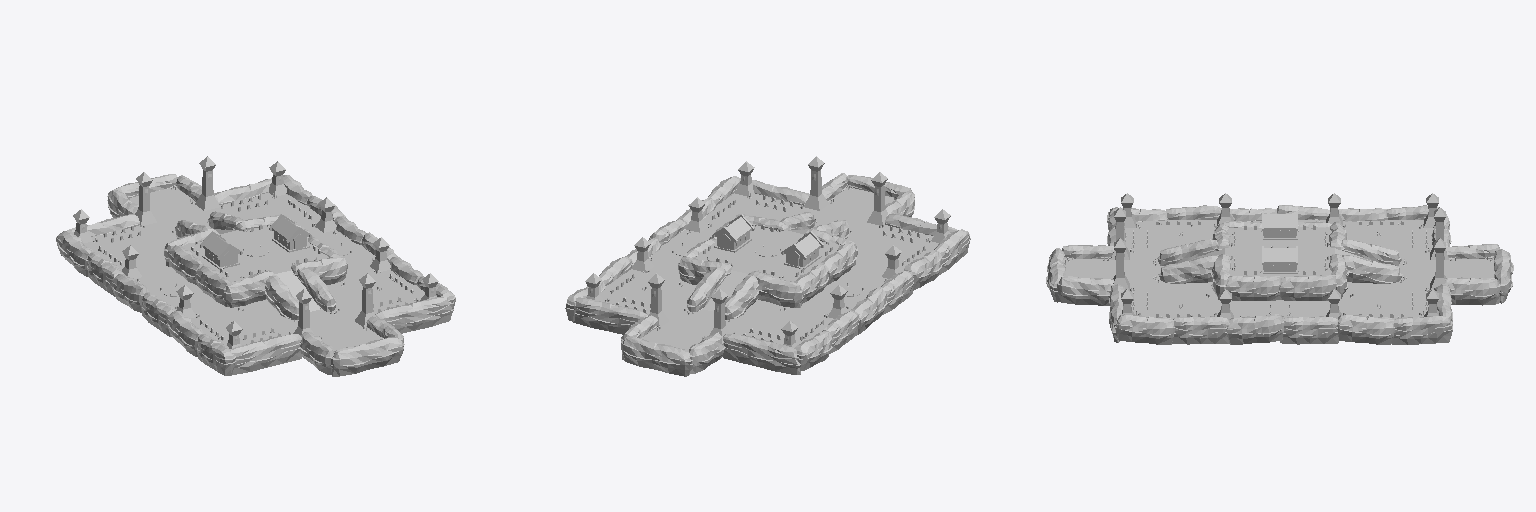
File: cemetery_arena_object.obj
The picture shows the model from 3 angles: view 1: azimuth 30°, elevation 25°; view 2: azimuth 150°, elevation 25°; view 3: azimuth 270°, elevation 25°; orthographic projection.
Parts seen in each view (by area): view 1: Plane, Cube.036_Cube.140, Cube_Cube.174, Cube.017_Cube.090, Cube.023_Cube.107, Cube.019_Cube.092, Cube.033_Cube.135, Cube.026_Cube.110, Cube.032_Cube.134, Cube.027_Cube.111, Cube.022_Cube.106, Cube.024_Cube.108 (+12 smaller); view 2: Plane, Cube.036_Cube.140, Cube.016_Cube.103, Cube_Cube.174, Cube.021_Cube.105, Cube.014_Cube.087, Cube.031_Cube.133, Cube.030_Cube.132, Cube.020_Cube.104, Cube.024_Cube.108, Cube.026_Cube.110, Cube.028_Cube.112 (+12 smaller); view 3: Plane, Cube.036_Cube.140, Cube_Cube.174, Cube.009_Cube.084, Cube.012_Cube.086, Cube.008_Cube.083, Cube.007_Cube.082, Cube.006_Cube.081, Cube.011_Cube.085, Cube.018_Cube.091, Cube.015_Cube.088, Cube.000_Cube.075 (+16 smaller).
Boxes of the visible parts, x1=… form: Plane: x1=84, y1=186, x2=424, y2=350; Cube.036_Cube.140: x1=73, y1=156, x2=438, y2=348; Cube_Cube.174: x1=200, y1=214, x2=311, y2=269; Cube.017_Cube.090: x1=330, y1=337, x2=404, y2=376; Cube.023_Cube.107: x1=229, y1=334, x2=302, y2=375; Cube.019_Cube.092: x1=375, y1=296, x2=453, y2=333; Cube.033_Cube.135: x1=223, y1=270, x2=274, y2=307; Cube.026_Cube.110: x1=197, y1=334, x2=235, y2=375; Cube.032_Cube.134: x1=265, y1=275, x2=298, y2=319; Cube.027_Cube.111: x1=166, y1=311, x2=203, y2=356; Cube.022_Cube.106: x1=299, y1=332, x2=334, y2=374; Cube.024_Cube.108: x1=56, y1=230, x2=92, y2=276; Plane: x1=600, y1=187, x2=938, y2=350; Cube.036_Cube.140: x1=585, y1=156, x2=950, y2=347; Cube.016_Cube.103: x1=722, y1=334, x2=800, y2=374; Cube_Cube.174: x1=712, y1=214, x2=823, y2=269; Cube.021_Cube.105: x1=621, y1=337, x2=693, y2=376; Cube.014_Cube.087: x1=573, y1=297, x2=647, y2=334; Cube.031_Cube.133: x1=748, y1=271, x2=803, y2=307; Cube.030_Cube.132: x1=725, y1=275, x2=758, y2=319; Cube.020_Cube.104: x1=689, y1=332, x2=725, y2=374; Cube.024_Cube.108: x1=794, y1=331, x2=832, y2=370; Cube.026_Cube.110: x1=934, y1=229, x2=970, y2=274; Cube.028_Cube.112: x1=850, y1=287, x2=886, y2=334; Plane: x1=1065, y1=220, x2=1494, y2=318; Cube.036_Cube.140: x1=1111, y1=193, x2=1448, y2=318; Cube_Cube.174: x1=1262, y1=212, x2=1297, y2=273; Cube.009_Cube.084: x1=1392, y1=316, x2=1452, y2=344; Cube.012_Cube.086: x1=1115, y1=314, x2=1175, y2=344; Cube.008_Cube.083: x1=1337, y1=314, x2=1394, y2=344; Cube.007_Cube.082: x1=1226, y1=314, x2=1284, y2=344; Cube.006_Cube.081: x1=1280, y1=316, x2=1338, y2=344; Cube.011_Cube.085: x1=1172, y1=316, x2=1229, y2=344; Cube.018_Cube.091: x1=1056, y1=276, x2=1113, y2=305; Cube.015_Cube.088: x1=1445, y1=277, x2=1500, y2=305; Cube.000_Cube.075: x1=1279, y1=275, x2=1337, y2=300.
Size of the model in its own units: 311 by 81.21 by 515.